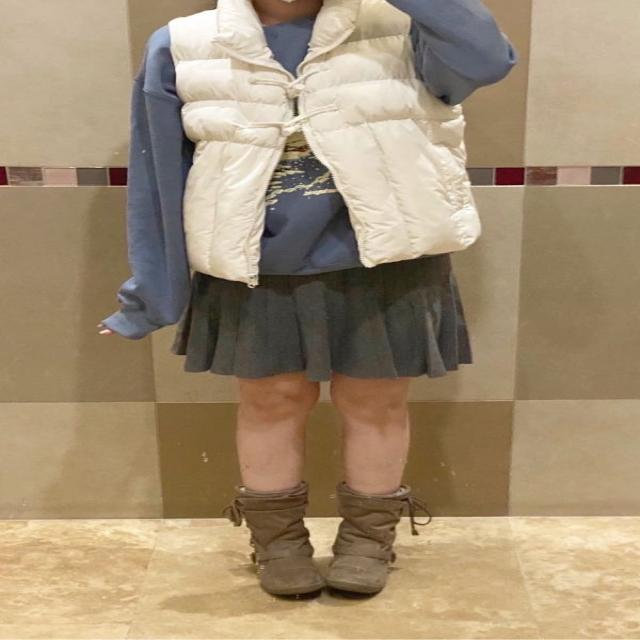mtm: (96, 0, 515, 339)
padding: (165, 0, 484, 290)
skirt: (168, 261, 470, 378)
